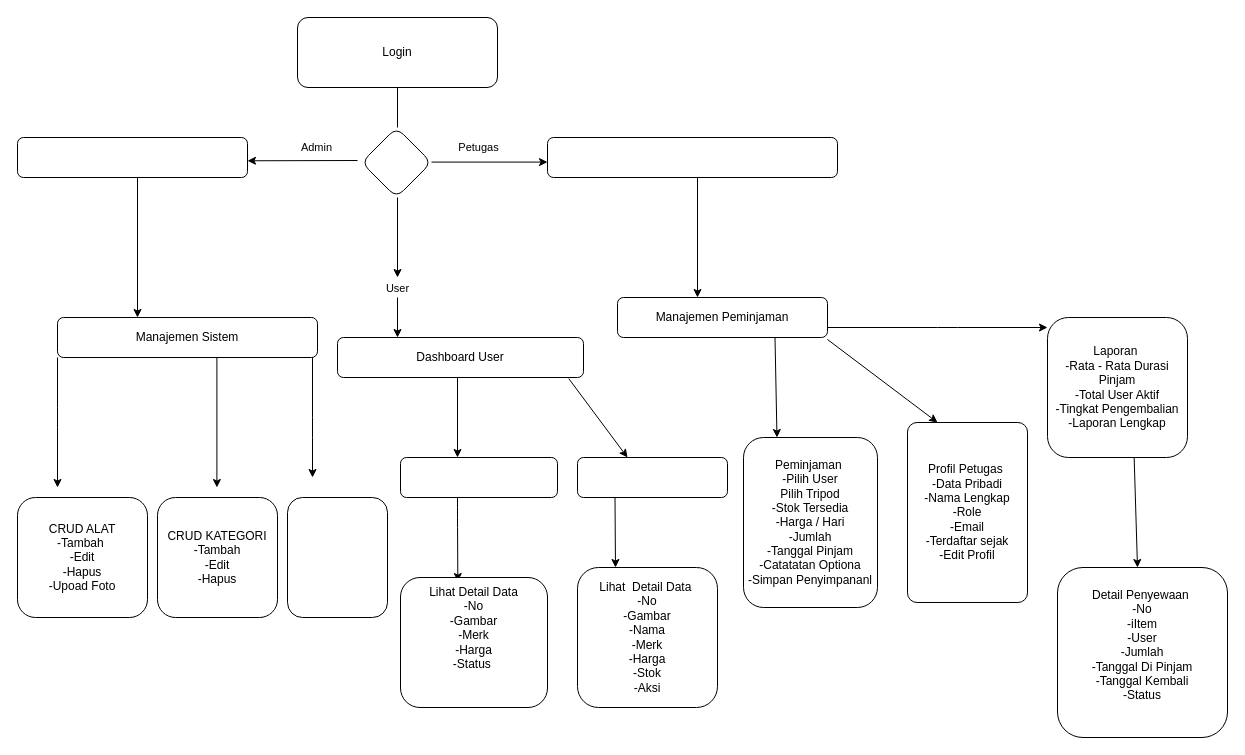
The diagram is 1245 pixels wide and 755 high, and some of its shapes have lost their labels. Here are the shapes that lost their labels. From the top down, the centre of each, then its label:
At (x=132, y=157): "Dashboard Admin".
At (x=396, y=162): "Cek Role".
At (x=692, y=157): "Dashboard Petugas".
At (x=479, y=477): "Data Tripod".
At (x=652, y=477): "Data VideoBooth".
At (x=337, y=557): "CRUD PENGGUNA -Login -Edit -Hapus -Logout".
